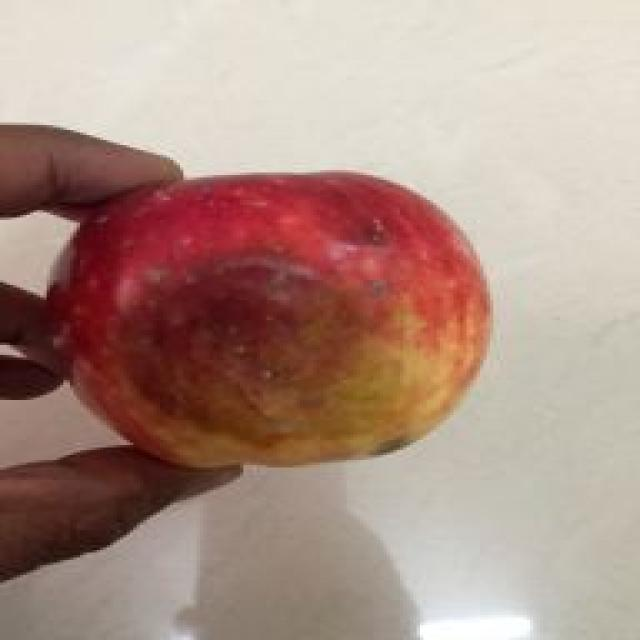Bad_Apple: (50, 172, 487, 467)
